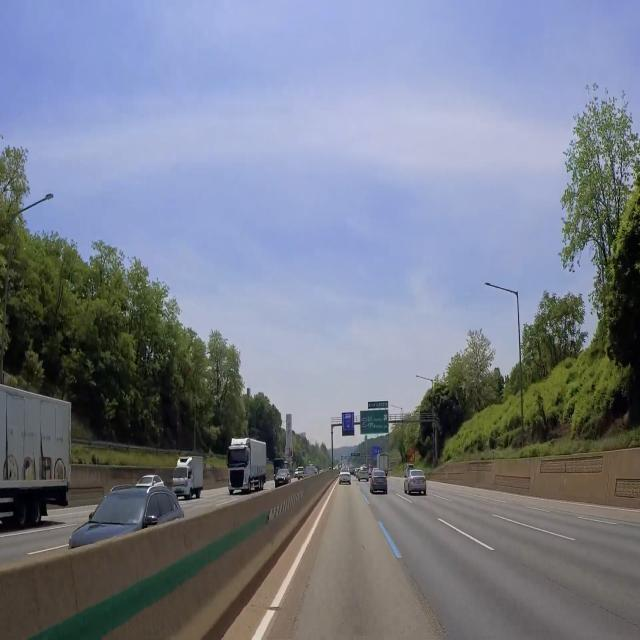car: (375, 478, 385, 487), (415, 479, 424, 488), (342, 476, 348, 484)
